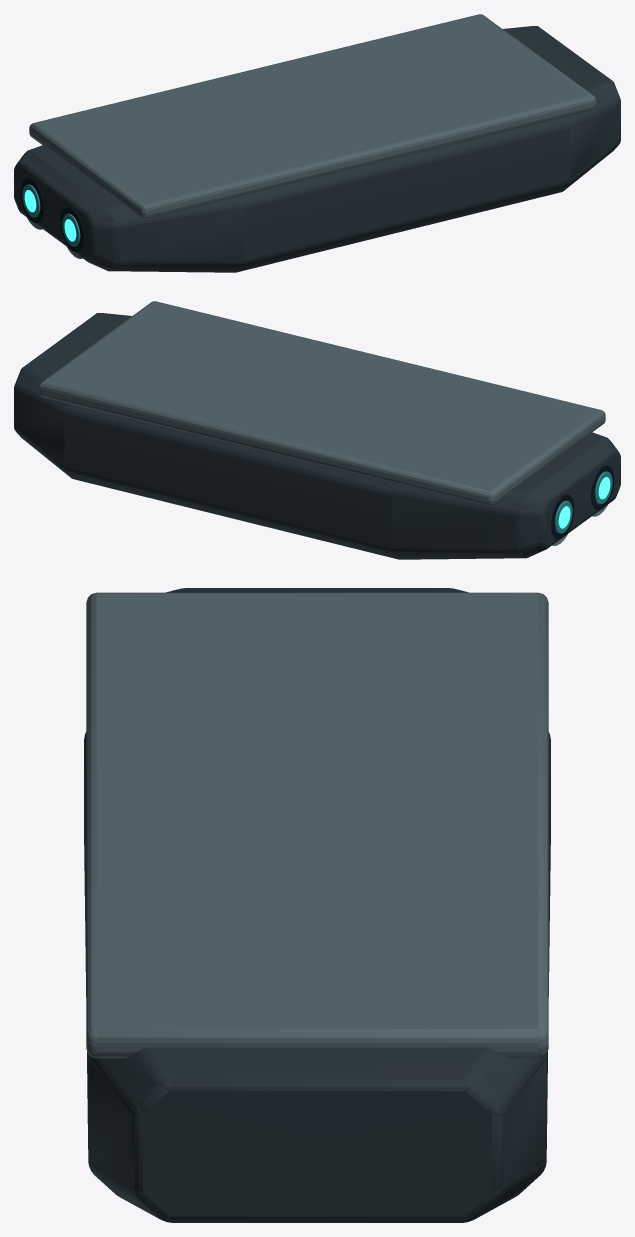
File: SM_Mech_MainCannon.fbx
3 renders of one model, top to bottom at view 1: azimuth 30°, elevation 25°; view 2: azimuth 150°, elevation 25°; view 3: azimuth 270°, elevation 25°, orthographic. The views are drawn at different scales.
Parts seen in each view (by area): view 1: SM_Mech_MainCannon; view 2: SM_Mech_MainCannon; view 3: SM_Mech_MainCannon.
Boxes of the visible parts, bbox=[...] form: SM_Mech_MainCannon: bbox=[14, 14, 620, 272]; SM_Mech_MainCannon: bbox=[14, 301, 620, 559]; SM_Mech_MainCannon: bbox=[84, 588, 550, 1222].
Bounding box in the file's own units: 579 × 222 × 102.
